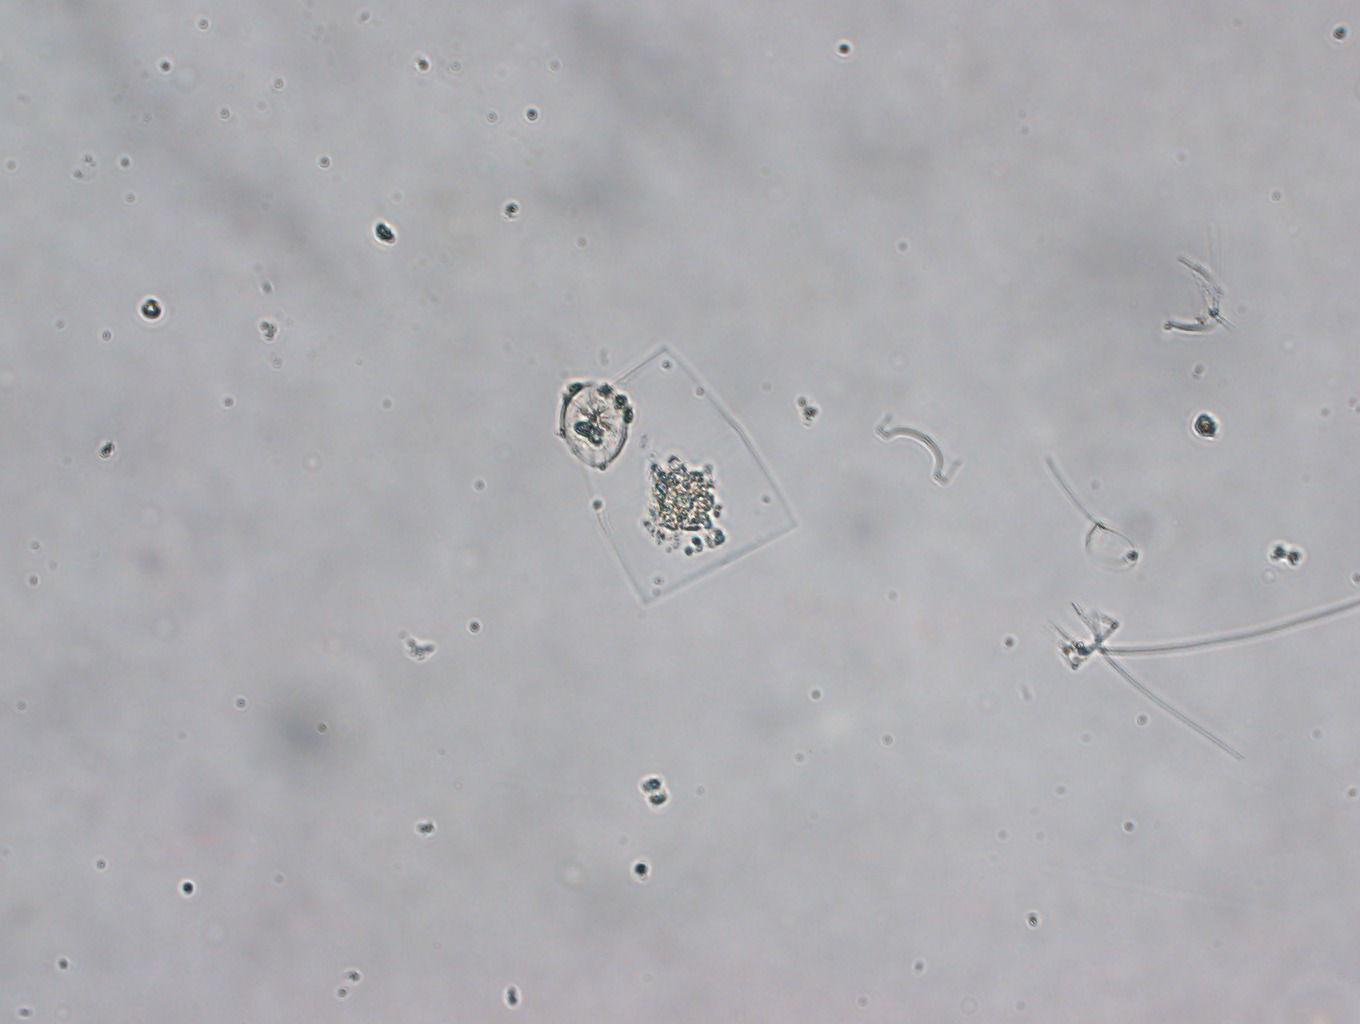helicotheca: (556, 344, 798, 606)
